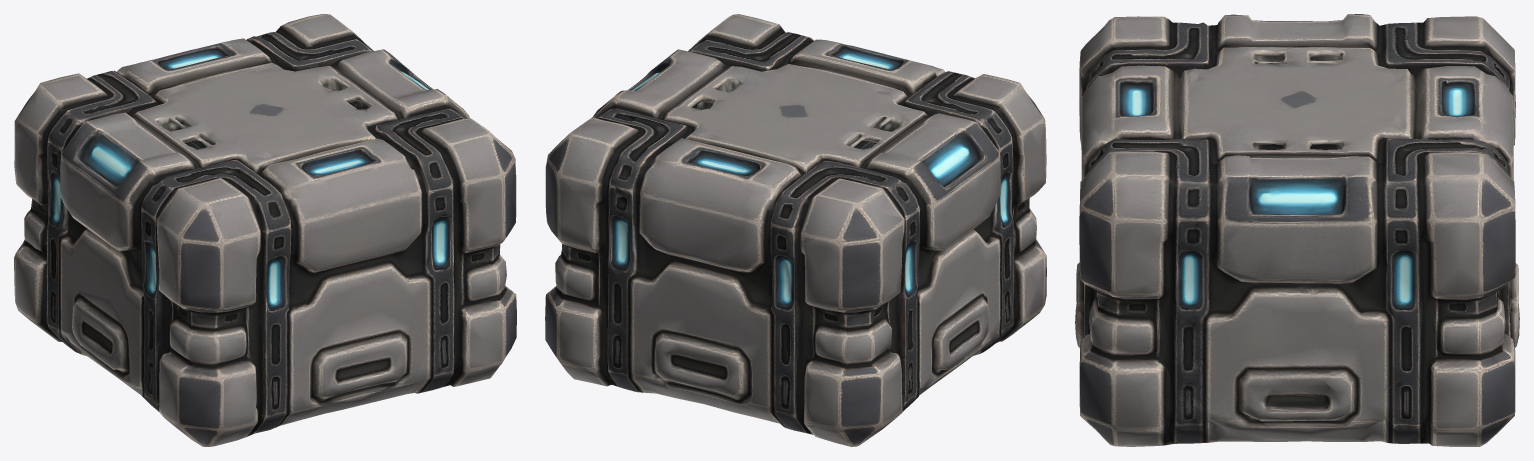
The model's file is scificrate.glb.
3 renders of one model, left to right at view 1: azimuth 30°, elevation 25°; view 2: azimuth 150°, elevation 25°; view 3: azimuth 270°, elevation 25°, orthographic. The views are drawn at different scales.
Parts seen in each view (by area): view 1: input; view 2: input; view 3: input.
Part boxes in pixels (x1,y1,x2,y2): input: (14, 14, 516, 446); input: (545, 14, 1046, 446); input: (1075, 14, 1519, 446).
Bounding box in the file's own units: 0.9 × 0.6071 × 0.8963.
Materials: 1 (1 with a texture image).
